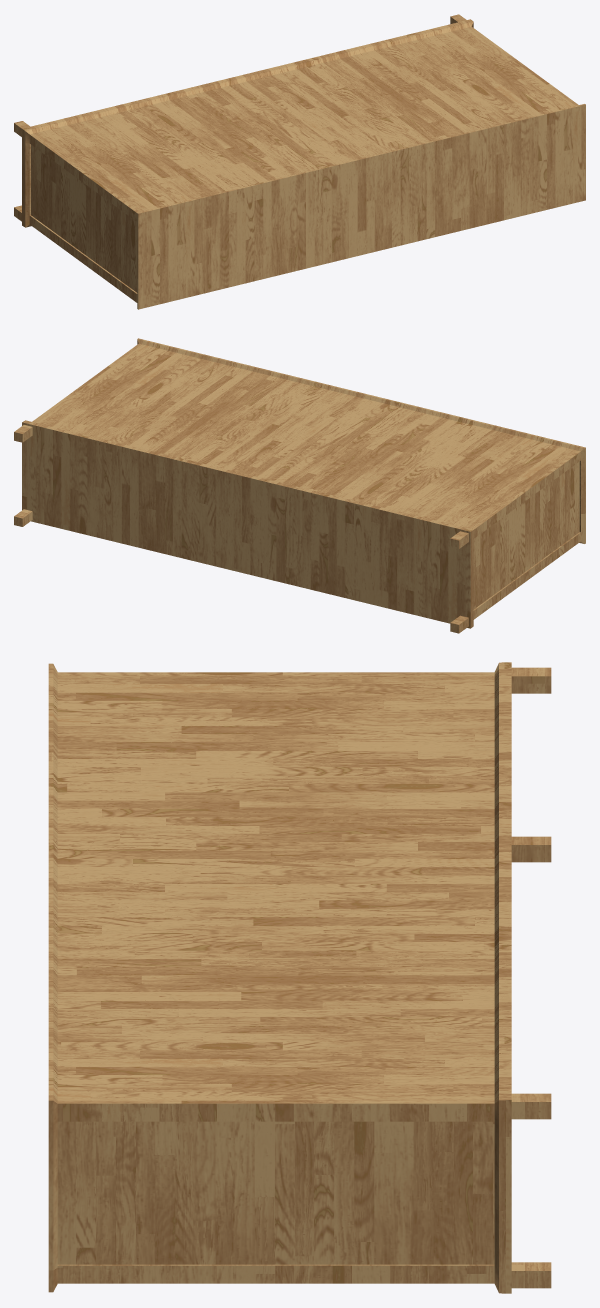
File: Fp216_Polysurface9SideTable_216_1_0.obj
The picture shows the model from 3 angles, top to bottom: view 1: azimuth 30°, elevation 25°; view 2: azimuth 150°, elevation 25°; view 3: azimuth 270°, elevation 25°; orthographic projection. The views are drawn at different scales.
Parts seen in each view (by area): view 1: SideTable_216_1; view 2: SideTable_216_1; view 3: SideTable_216_1.
Part boxes in pixels (x1,y1,x2,y2): SideTable_216_1: (14, 14, 585, 309); SideTable_216_1: (14, 338, 585, 633); SideTable_216_1: (48, 662, 551, 1293).
Bounding box in the file's own units: 1.83 × 0.3768 × 0.886.
